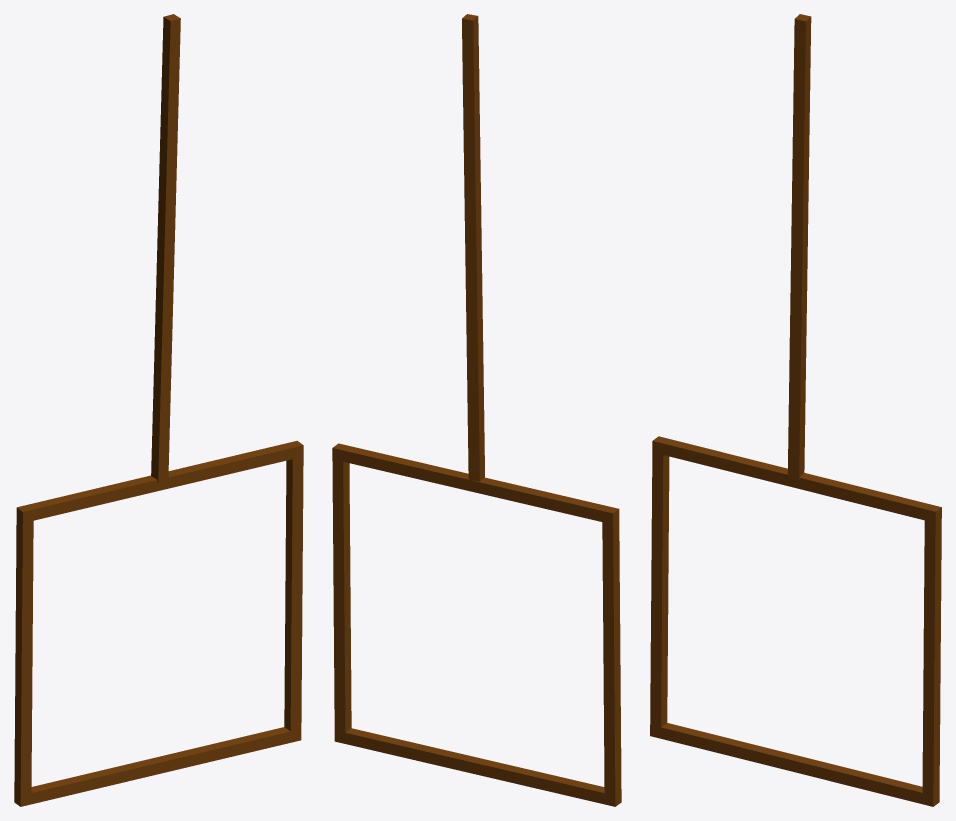
File: gate2016.obj
3 renders of one model, left to right at view 1: azimuth 30°, elevation 25°; view 2: azimuth 150°, elevation 25°; view 3: azimuth 330°, elevation 25°, orthographic.
Parts seen in each view (by area): view 1: POLYFACE.660, POLYFACE.658; view 2: POLYFACE.660, POLYFACE.658; view 3: POLYFACE.660, POLYFACE.658.
Part boxes in pixels (bbox=[...]): POLYFACE.660: bbox=[14, 440, 303, 806]; POLYFACE.658: bbox=[151, 14, 180, 482]; POLYFACE.660: bbox=[332, 443, 621, 806]; POLYFACE.658: bbox=[462, 14, 484, 481]; POLYFACE.660: bbox=[650, 436, 941, 806]; POLYFACE.658: bbox=[787, 14, 811, 480].
Bounding box in the file's own units: 1.31 × 3.33 × 0.0799.
